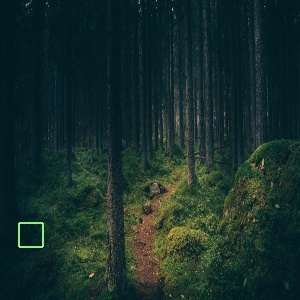square: (17, 220, 47, 250)
